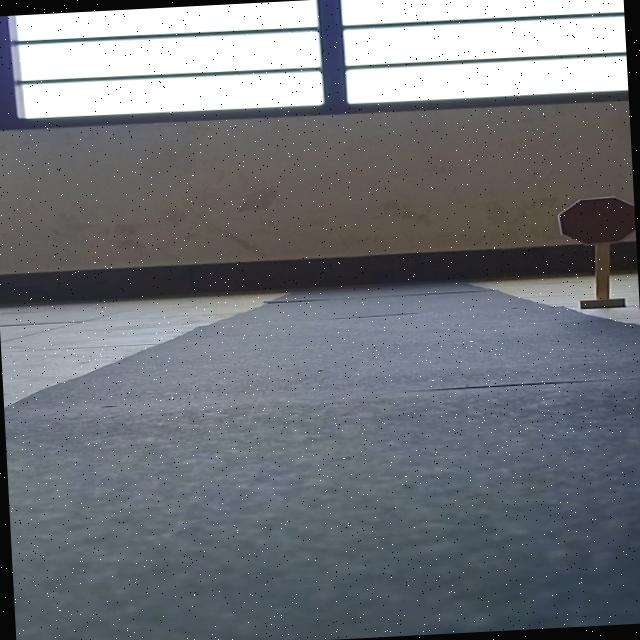Stop: (557, 195, 636, 248)
